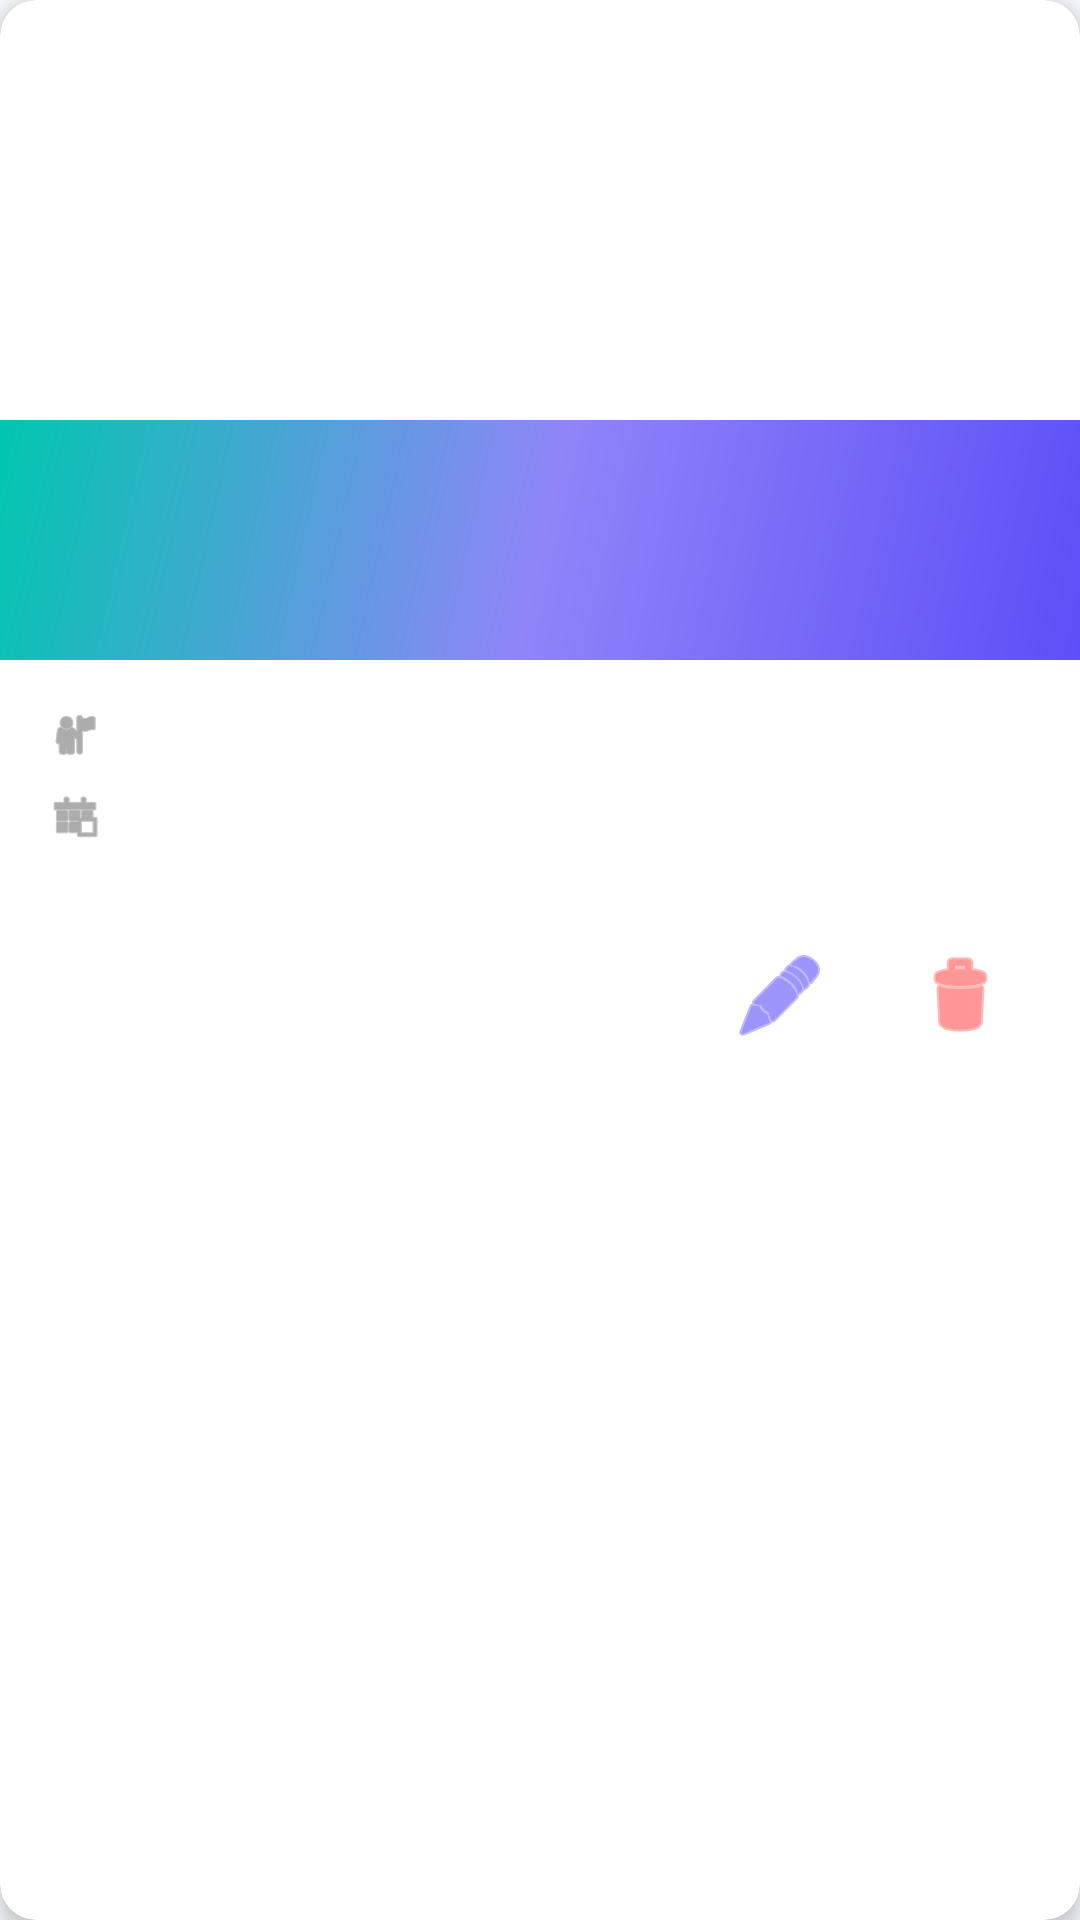

Named icons in this screenshot (1080px×1920px) and their bounding boxes, (left=x1, top=y1, right=x2, bottom=y2):
delete: (left=934, top=957, right=987, bottom=1032)
edit: (left=739, top=955, right=820, bottom=1036)
Ícono Autor: (left=55, top=715, right=96, bottom=755)
Ícono fecha: (left=54, top=796, right=98, bottom=837)
